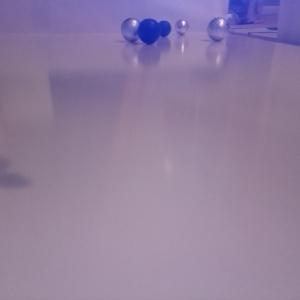alive_ball: (207, 17, 230, 42), (121, 18, 143, 42), (175, 19, 189, 36)
dead_ball: (138, 18, 161, 44), (157, 20, 171, 37)
